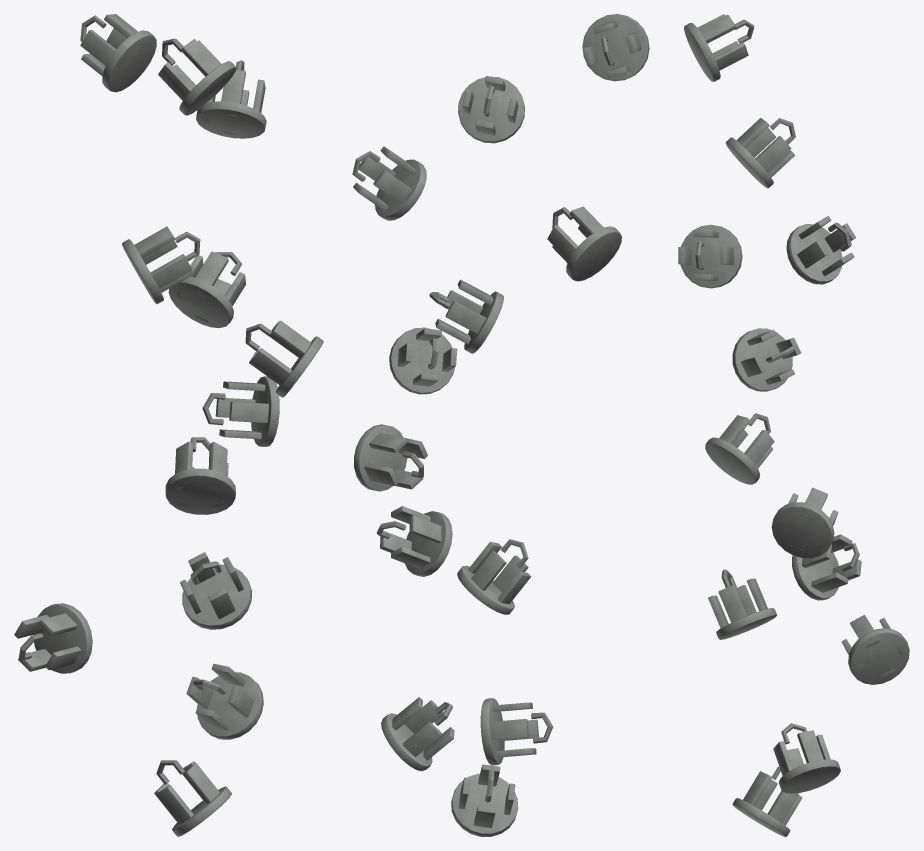
The model's file is EST-ARM-002_anim.glb.
The picture shows the model from 3 angles, left to right: view 1: azimuth 30°, elevation 25°; view 2: azimuth 150°, elevation 25°; view 3: azimuth 270°, elevation 25°; orthographic projection. The views are drawn at different scales.
Parts seen in each view (by area): view 1: EST-ARM-002_anim2, EST-ARM-002_anim1, EST-ARM-002_anim3, EST-ARM-002_anim11, EST-ARM-002_anim4, EST-ARM-002_anim7, EST-ARM-002_anim5, EST-ARM-002_anim9, EST-ARM-002_anim10, EST-ARM-002_anim8, EST-ARM-002_anim0, EST-ARM-002_anim6; view 2: EST-ARM-002_anim5, EST-ARM-002_anim0, EST-ARM-002_anim4, EST-ARM-002_anim6, EST-ARM-002_anim11, EST-ARM-002_anim10, EST-ARM-002_anim1, EST-ARM-002_anim9, EST-ARM-002_anim3, EST-ARM-002_anim8, EST-ARM-002_anim7, EST-ARM-002_anim2; view 3: EST-ARM-002_anim9, EST-ARM-002_anim7, EST-ARM-002_anim8, EST-ARM-002_anim5, EST-ARM-002_anim2, EST-ARM-002_anim1, EST-ARM-002_anim6, EST-ARM-002_anim10, EST-ARM-002_anim4, EST-ARM-002_anim3, EST-ARM-002_anim11, EST-ARM-002_anim0.
Boxes of the visible parts, x1,y1,x2,y2 form: EST-ARM-002_anim2: [14, 603, 92, 673]; EST-ARM-002_anim1: [186, 663, 263, 739]; EST-ARM-002_anim3: [180, 552, 251, 629]; EST-ARM-002_anim11: [80, 14, 156, 92]; EST-ARM-002_anim4: [165, 437, 235, 514]; EST-ARM-002_anim7: [168, 251, 245, 327]; EST-ARM-002_anim5: [202, 376, 279, 446]; EST-ARM-002_anim9: [196, 60, 266, 138]; EST-ARM-002_anim10: [158, 38, 236, 115]; EST-ARM-002_anim8: [122, 226, 200, 304]; EST-ARM-002_anim0: [154, 760, 231, 836]; EST-ARM-002_anim6: [245, 320, 323, 397]; EST-ARM-002_anim5: [354, 424, 427, 491]; EST-ARM-002_anim0: [451, 764, 518, 836]; EST-ARM-002_anim4: [376, 506, 452, 576]; EST-ARM-002_anim6: [389, 327, 457, 394]; EST-ARM-002_anim11: [582, 14, 649, 81]; EST-ARM-002_anim10: [458, 76, 524, 143]; EST-ARM-002_anim1: [381, 697, 454, 771]; EST-ARM-002_anim9: [352, 146, 426, 220]; EST-ARM-002_anim3: [457, 539, 531, 614]; EST-ARM-002_anim8: [547, 206, 621, 281]; EST-ARM-002_anim7: [429, 279, 503, 353]; EST-ARM-002_anim2: [480, 698, 553, 765]; EST-ARM-002_anim9: [786, 216, 855, 284]; EST-ARM-002_anim7: [732, 328, 801, 391]; EST-ARM-002_anim8: [678, 224, 742, 288]; EST-ARM-002_anim5: [771, 487, 838, 558]; EST-ARM-002_anim2: [841, 615, 909, 684]; EST-ARM-002_anim1: [773, 723, 840, 793]; EST-ARM-002_anim6: [705, 413, 774, 484]; EST-ARM-002_anim10: [725, 118, 795, 188]; EST-ARM-002_anim4: [792, 534, 861, 600]; EST-ARM-002_anim3: [708, 569, 776, 639]; EST-ARM-002_anim11: [684, 14, 754, 81]; EST-ARM-002_anim0: [732, 766, 802, 836].
Size of the model in its own units: 0.1785 by 0.5912 by 0.1601.
1 material, 1 textured.
